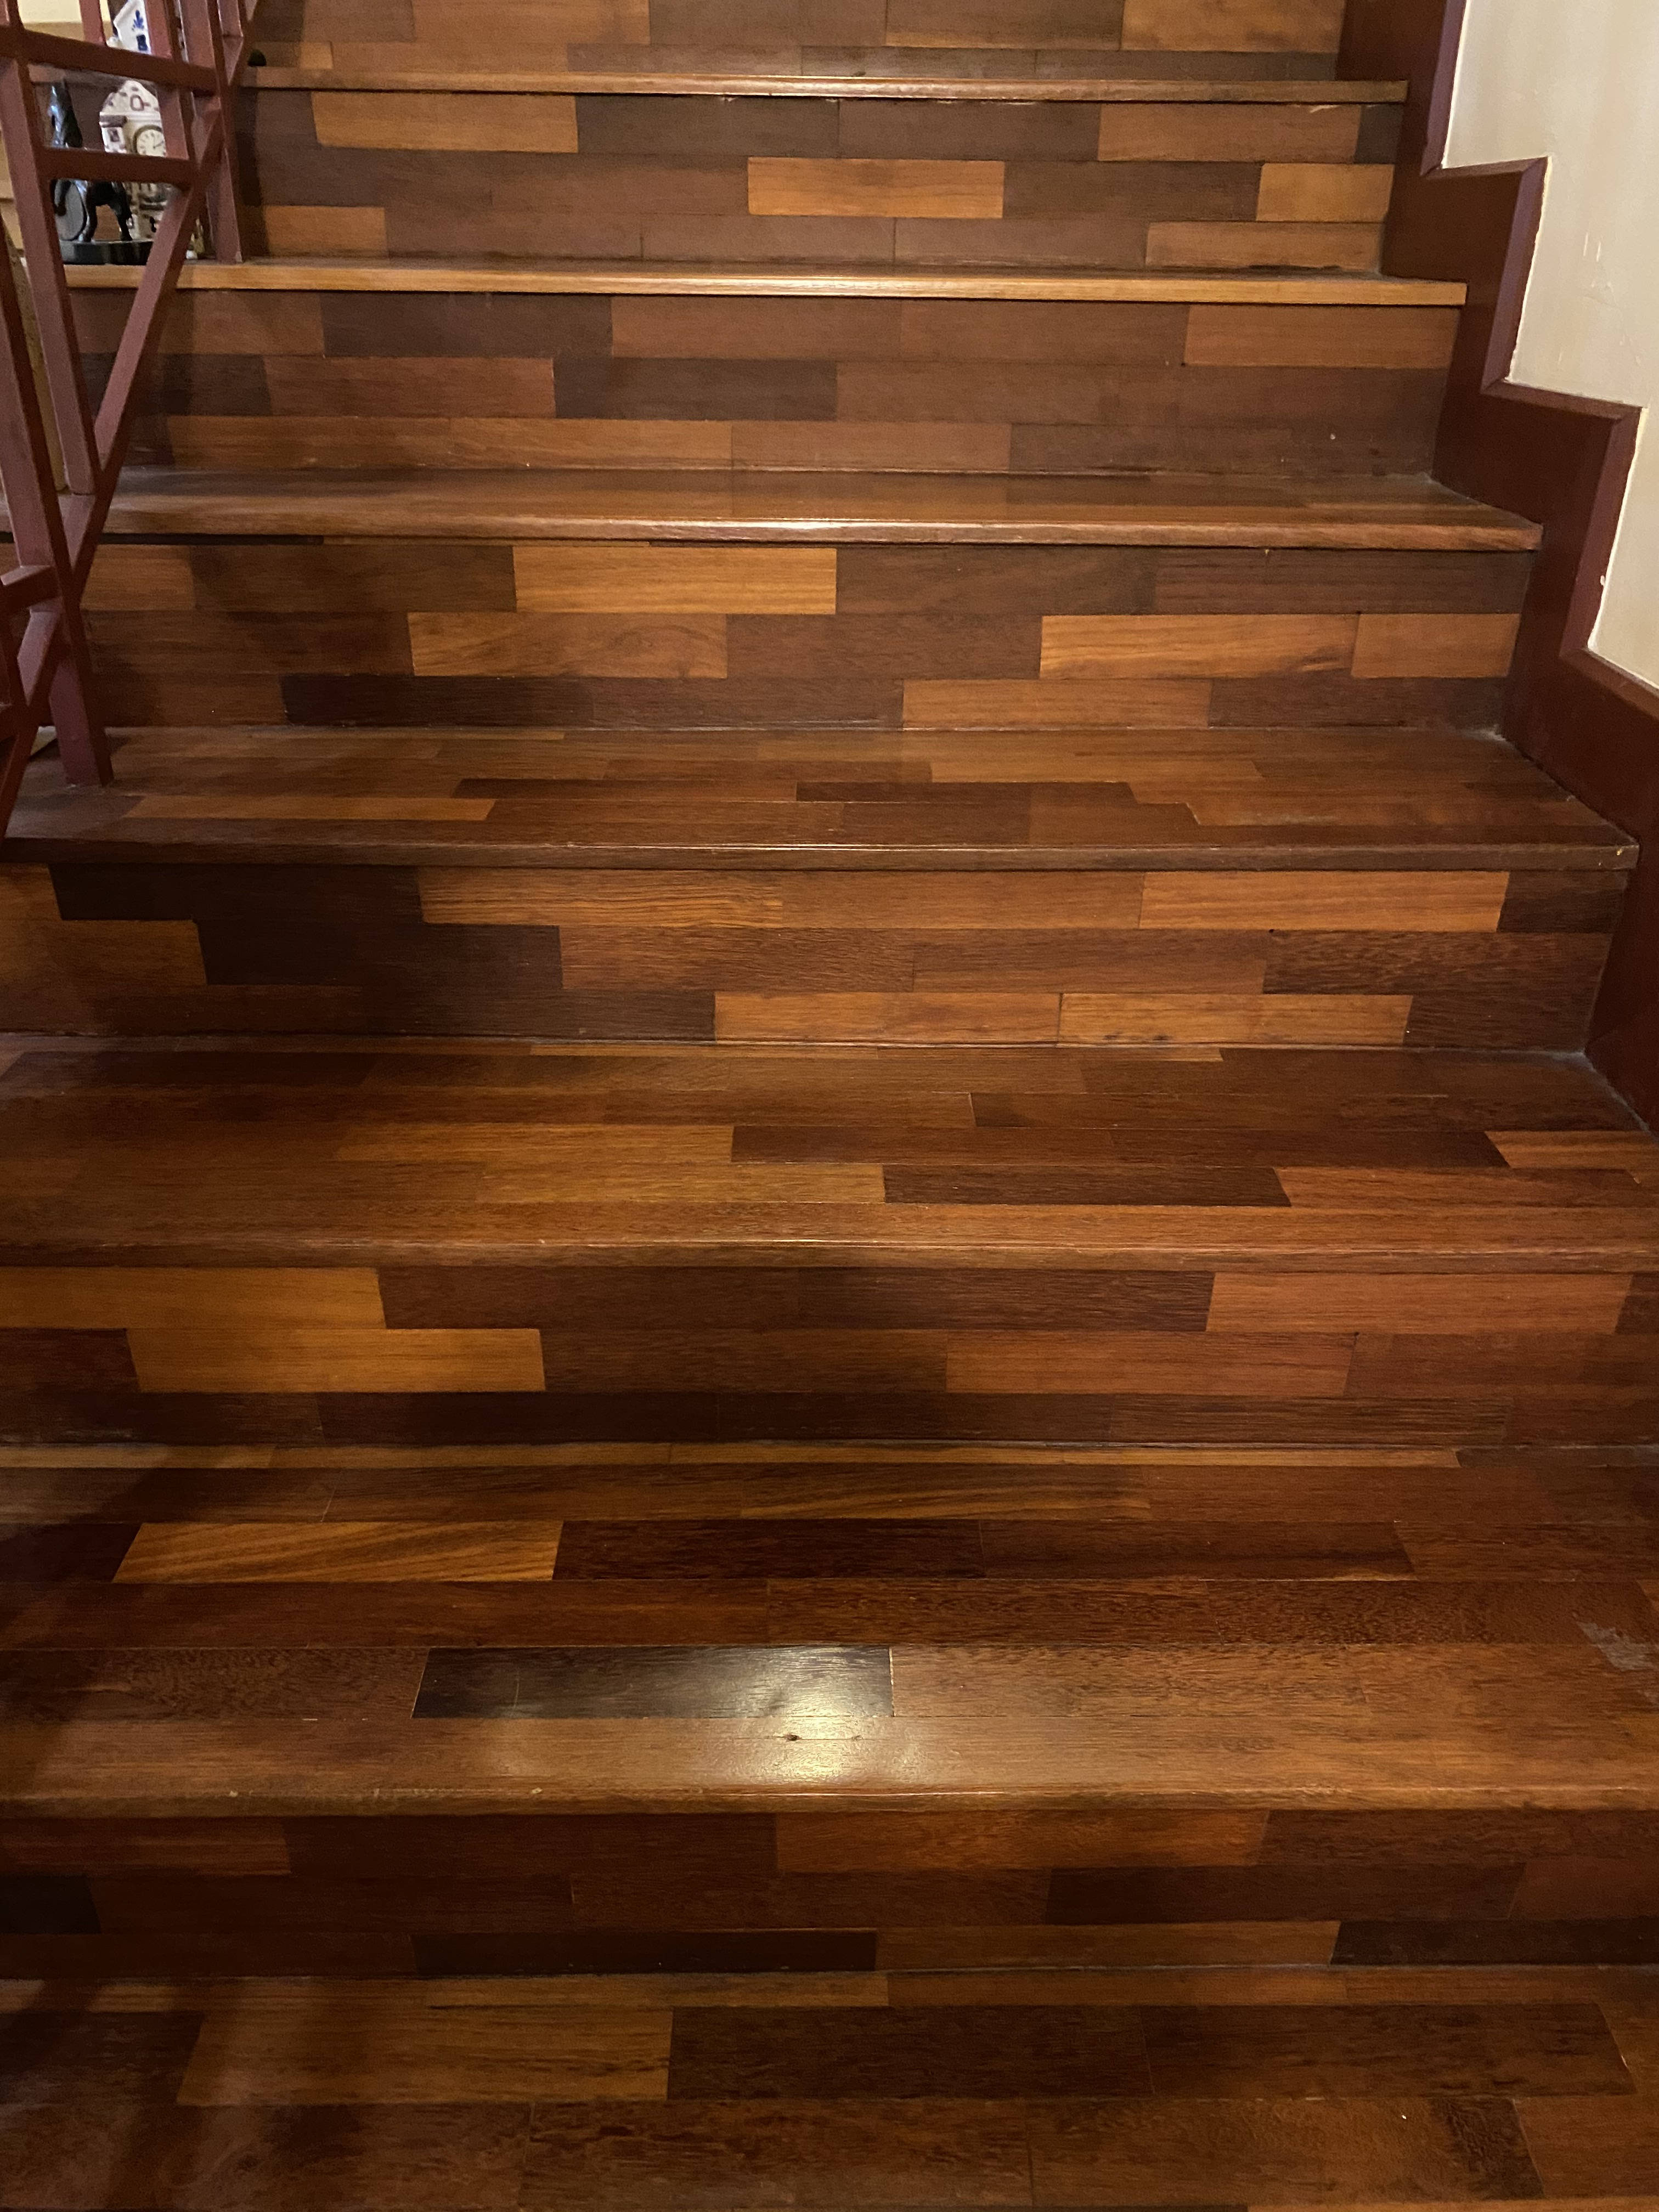upstairs: (162, 728, 1500, 2111)
